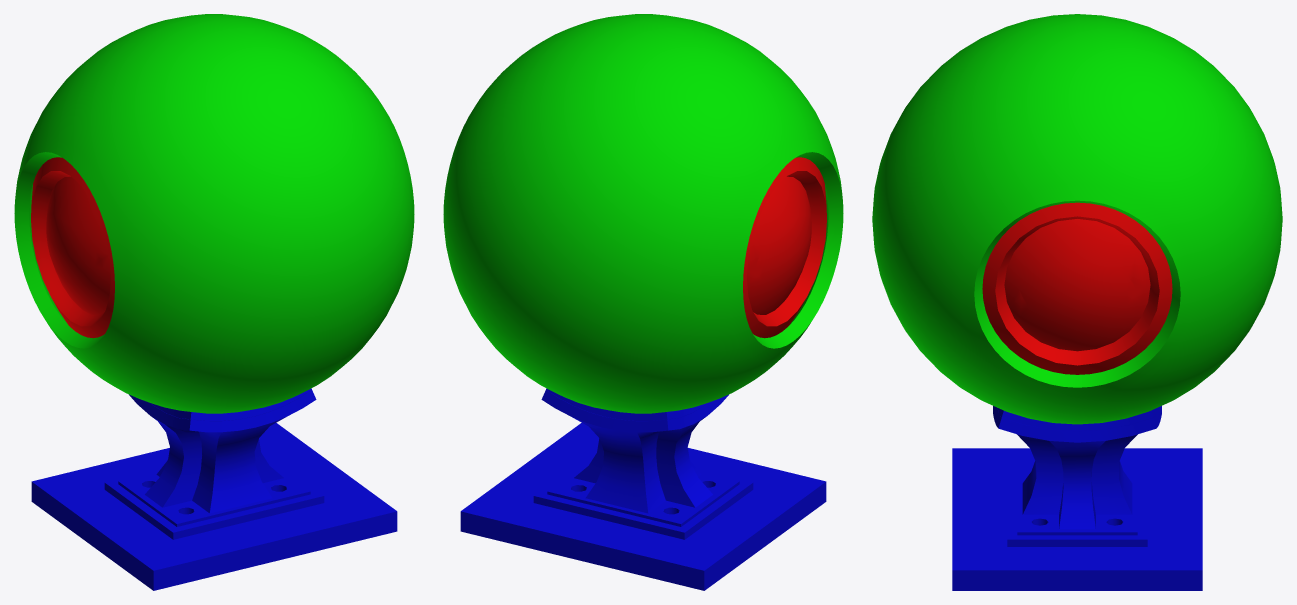
The model's file is shaderball.fbx.
The picture shows the model from 3 angles, left to right: view 1: azimuth 30°, elevation 25°; view 2: azimuth 150°, elevation 25°; view 3: azimuth 270°, elevation 25°; orthographic projection. The views are drawn at different scales.
Visible parts, largest first — view 1: shaderball; view 2: shaderball; view 3: shaderball.
Part boxes in pixels (x1=…): shaderball: x1=14, y1=14, x2=414, y2=590; shaderball: x1=443, y1=14, x2=843, y2=590; shaderball: x1=872, y1=14, x2=1282, y2=590.
Bounding box in the file's own units: 0.665 × 1 × 0.7489.
